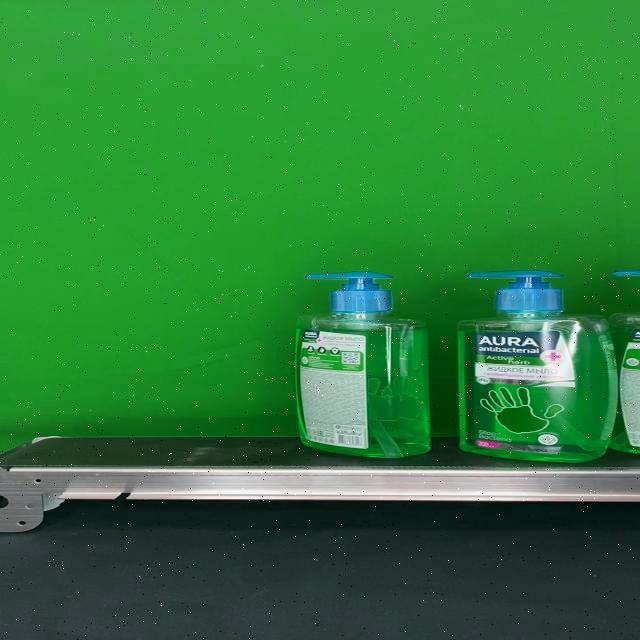Bottle: (456, 270, 619, 463), (293, 271, 431, 458)
Cap: (466, 270, 564, 312), (305, 270, 394, 312)
